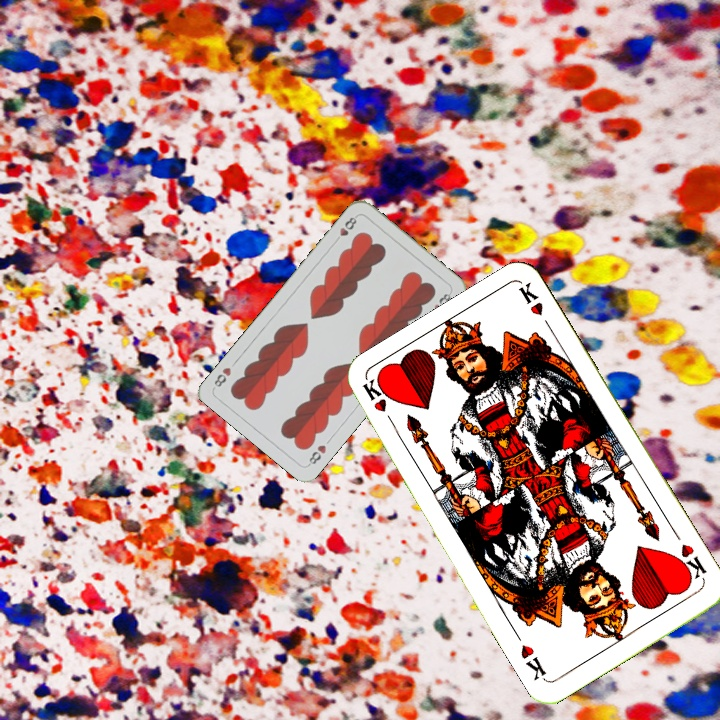H8: (330, 212, 360, 246), (304, 441, 329, 468)
HK: (358, 376, 400, 432), (671, 540, 709, 585)
